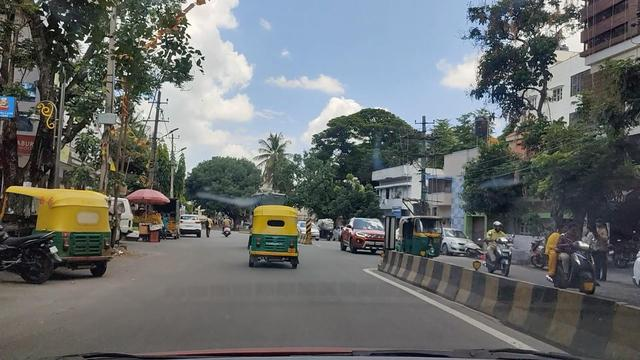LMV: (243, 207, 301, 267)
